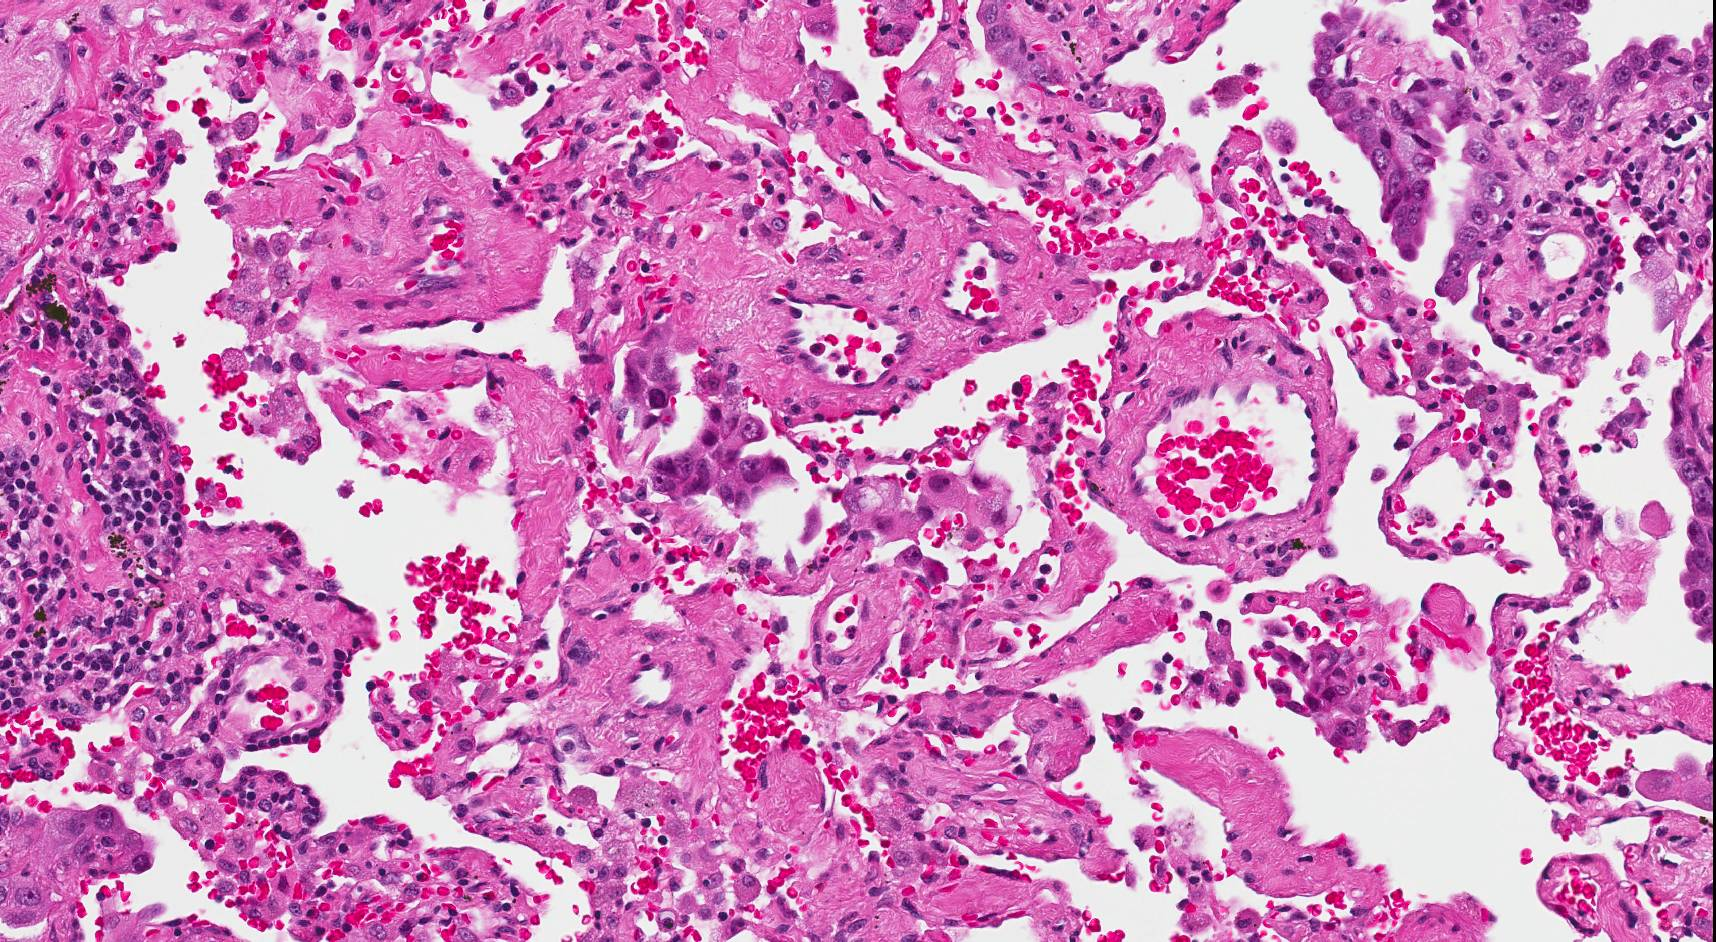stas: (646, 363, 797, 517), (1271, 636, 1425, 752), (623, 323, 687, 434)
